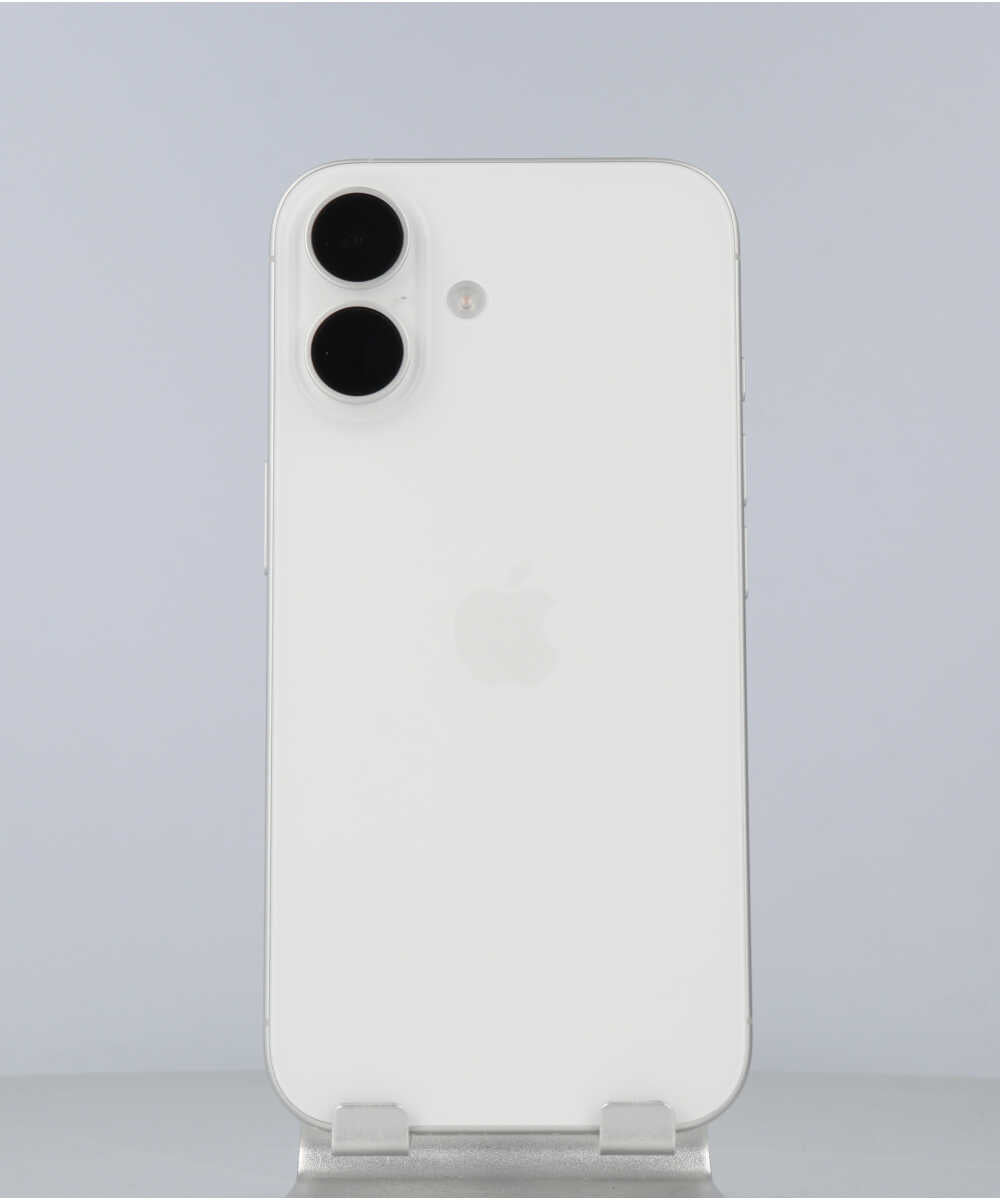iphone16_white: (216, 126, 778, 1144), (293, 174, 516, 415)
